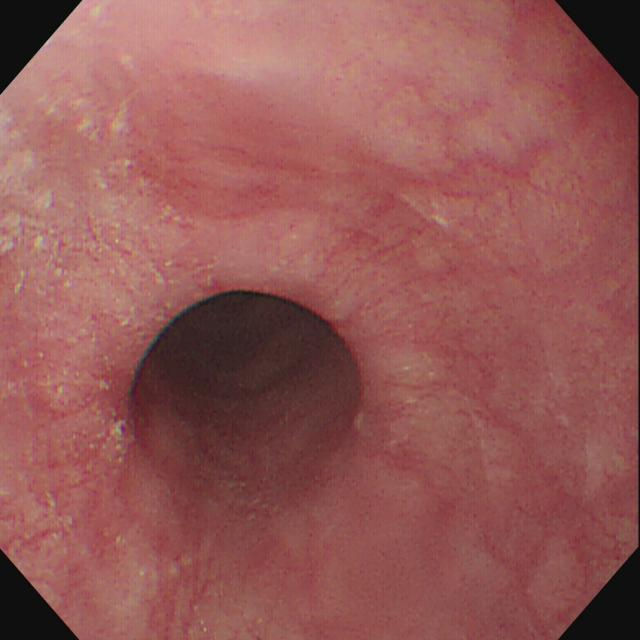A: (140, 141, 329, 224), (318, 193, 427, 296), (436, 139, 558, 210), (147, 531, 211, 639), (24, 364, 133, 423), (48, 431, 116, 508), (2, 510, 79, 559)
E: (138, 285, 351, 413)
J: (89, 159, 196, 305), (2, 111, 62, 261), (76, 94, 136, 145)
